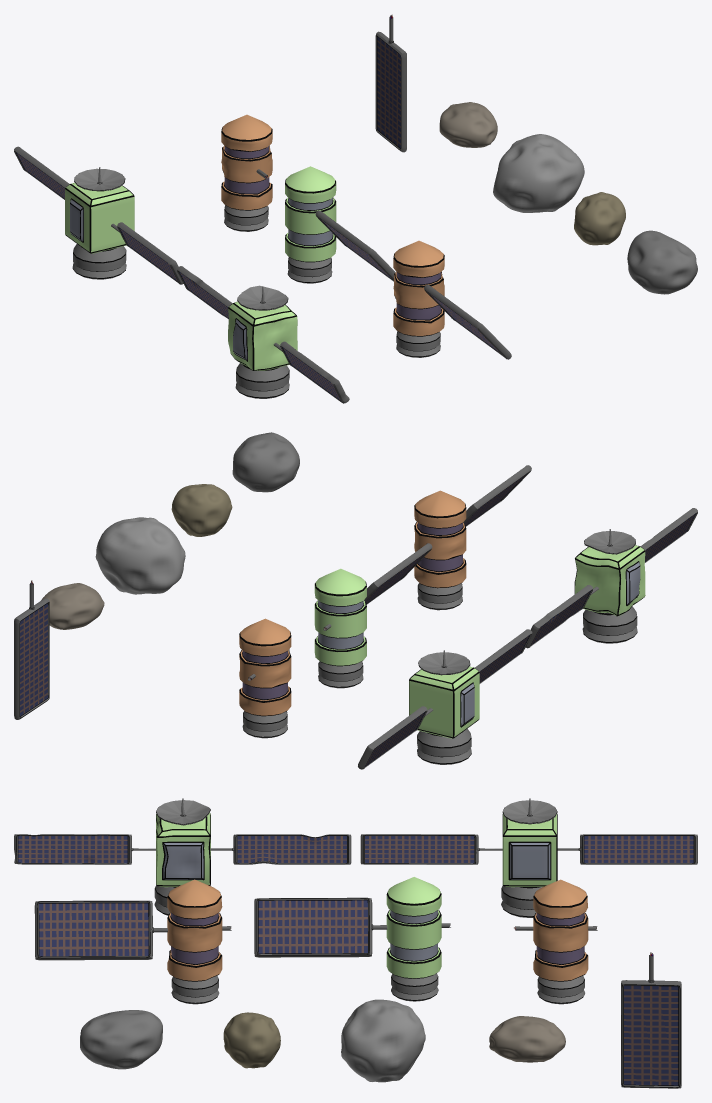
The model's file is Asteroids&Debris.fbx.
3 renders of one model, top to bottom at view 1: azimuth 30°, elevation 25°; view 2: azimuth 150°, elevation 25°; view 3: azimuth 270°, elevation 25°, orthographic. The views are drawn at different scales.
Parts seen in each view (by area): view 1: Satellite (×3), Satellite2 (×2), Solar_Panel (×3), Astroid4, Astroid1, Satellite_Thruster2 (×2), Satellite_Thruster1 (×3), Solar_Panel3 (×2), Astroid2, Astroid3, Solar_Panel2 (×2), Satellite_Dish (×2); view 2: Satellite (×3), Satellite2 (×2), Solar_Panel (×3), Astroid4, Astroid1, Satellite_Thruster2 (×2), Satellite_Thruster1 (×3), Solar_Panel2 (×2), Astroid2, Astroid3, Solar_Panel3 (×2), Satellite_Dish (×2); view 3: Solar_Panel (×3), Satellite (×3), Solar_Panel3 (×2), Solar_Panel2 (×2), Satellite2 (×2), Astroid4, Astroid1, Satellite_Thruster1 (×3), Astroid3, Astroid2, Satellite_Dish (×2), Satellite_Thruster2.
Boxes of the visible parts, x1,y1,x2,y2 form: Satellite (×3): (221, 114, 444, 336); Satellite2 (×2): (65, 183, 297, 370); Solar_Panel (×3): (315, 16, 511, 359); Astroid4: (493, 134, 584, 212); Astroid1: (627, 230, 697, 294); Satellite_Thruster2 (×2): (72, 244, 289, 398); Satellite_Thruster1 (×3): (224, 205, 440, 357); Solar_Panel3 (×2): (111, 222, 349, 403); Astroid2: (574, 192, 625, 245); Astroid3: (439, 102, 497, 147); Solar_Panel2 (×2): (14, 146, 232, 319); Satellite_Dish (×2): (74, 167, 288, 310); Satellite (×3): (239, 490, 466, 716); Satellite2 (×2): (409, 545, 645, 738); Solar_Panel (×3): (14, 465, 531, 719); Astroid4: (95, 517, 185, 594); Astroid1: (232, 432, 299, 492); Satellite_Thruster2 (×2): (417, 606, 637, 764); Satellite_Thruster1 (×3): (242, 583, 462, 738); Solar_Panel2 (×2): (358, 585, 598, 769); Astroid2: (171, 484, 232, 536); Astroid3: (41, 583, 104, 629); Solar_Panel3 (×2): (475, 508, 697, 683); Satellite_Dish (×2): (418, 529, 635, 675); Solar_Panel (×3): (34, 897, 681, 1088); Satellite (×3): (167, 877, 588, 981); Solar_Panel3 (×2): (14, 834, 502, 864); Solar_Panel2 (×2): (210, 834, 697, 864); Satellite2 (×2): (156, 813, 557, 887); Astroid4: (341, 999, 425, 1082); Astroid1: (80, 1010, 162, 1069); Satellite_Thruster1 (×3): (171, 973, 584, 1004); Astroid3: (489, 1016, 565, 1062); Astroid2: (223, 1012, 280, 1068); Satellite_Dish (×2): (156, 798, 557, 825); Satellite_Thruster2: (501, 885, 542, 917).
Size of the model in its own units: 19.28 by 5.63 by 24.87.
